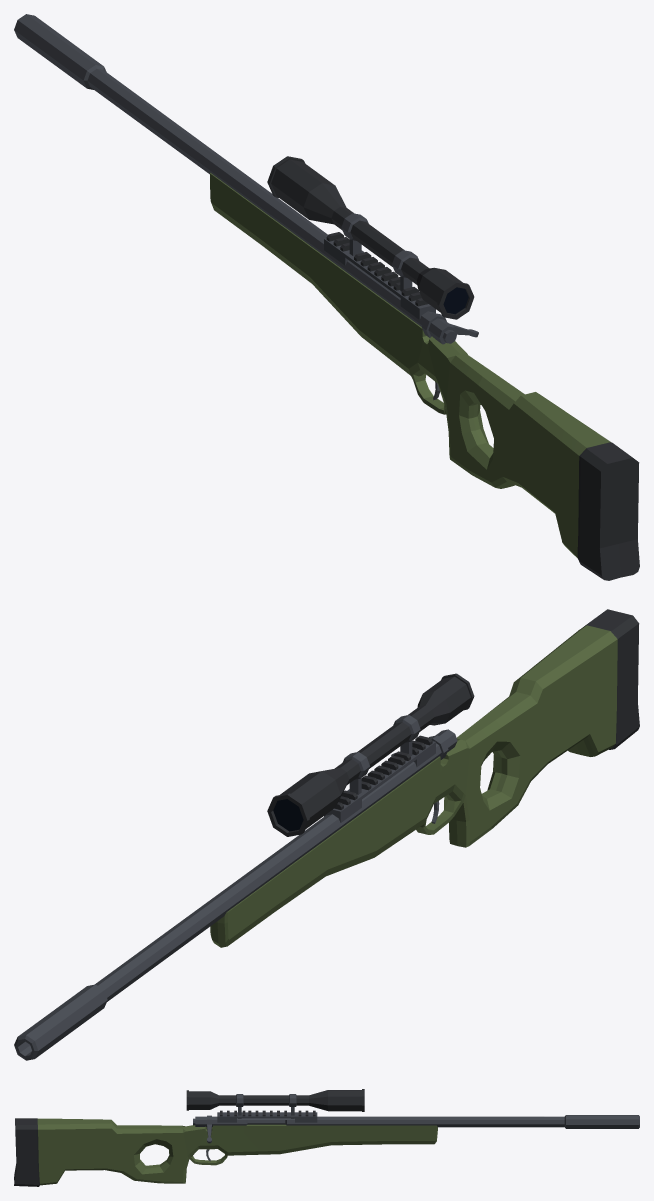
File: sniper.glb
The picture shows the model from 3 angles, top to bottom: view 1: azimuth 30°, elevation 25°; view 2: azimuth 150°, elevation 25°; view 3: azimuth 270°, elevation 25°; orthographic projection. The views are drawn at different scales.
Visible parts, largest first — view 1: sniper; view 2: sniper; view 3: sniper.
Boxes of the visible parts, x1,y1,x2,y2 form: sniper: [14, 14, 639, 580]; sniper: [14, 609, 639, 1060]; sniper: [14, 1089, 639, 1186].
Size of the model in its own units: 0.08 by 0.2155 by 1.3.
